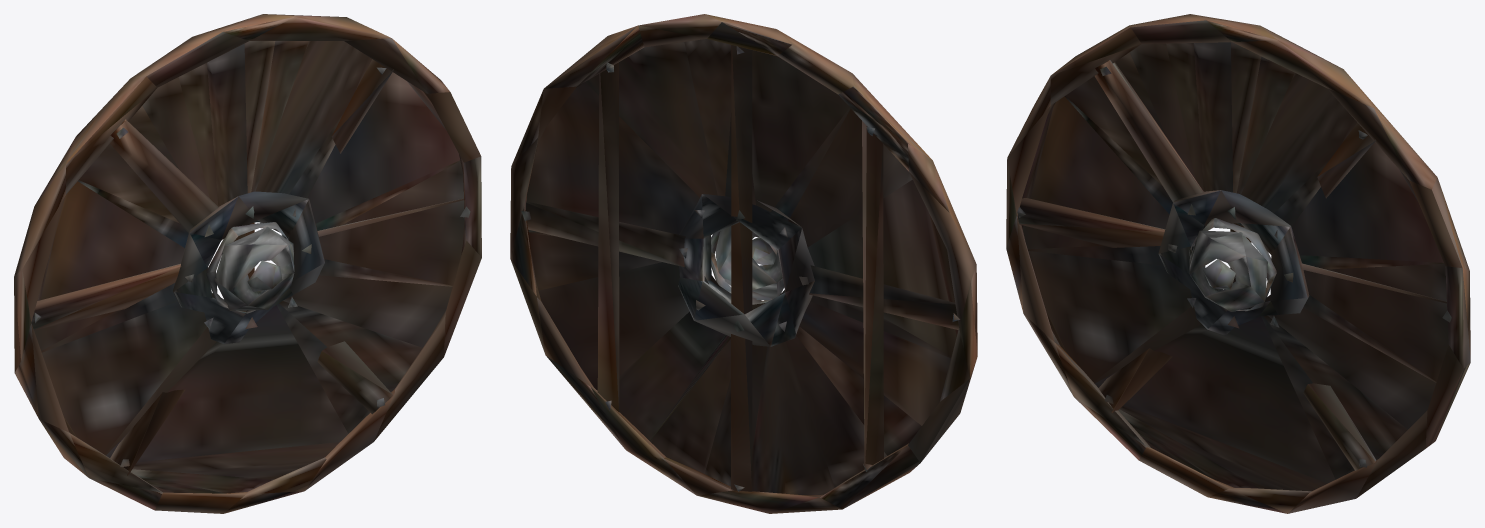
File: gear_germanic_round_shield_1.glb
3 renders of one model, left to right at view 1: azimuth 30°, elevation 25°; view 2: azimuth 150°, elevation 25°; view 3: azimuth 330°, elevation 25°, orthographic.
Visible parts, largest first — view 1: MeshyEquipment_gear_germanic_round_shield; view 2: MeshyEquipment_gear_germanic_round_shield; view 3: MeshyEquipment_gear_germanic_round_shield.
Boxes of the visible parts, <box> form: MeshyEquipment_gear_germanic_round_shield: <box>14,14,481,513</box>; MeshyEquipment_gear_germanic_round_shield: <box>510,14,977,513</box>; MeshyEquipment_gear_germanic_round_shield: <box>1006,14,1470,513</box>.
Bounding box in the file's own units: 0.6596 × 0.6595 × 0.0818.
1 material, 1 textured.
